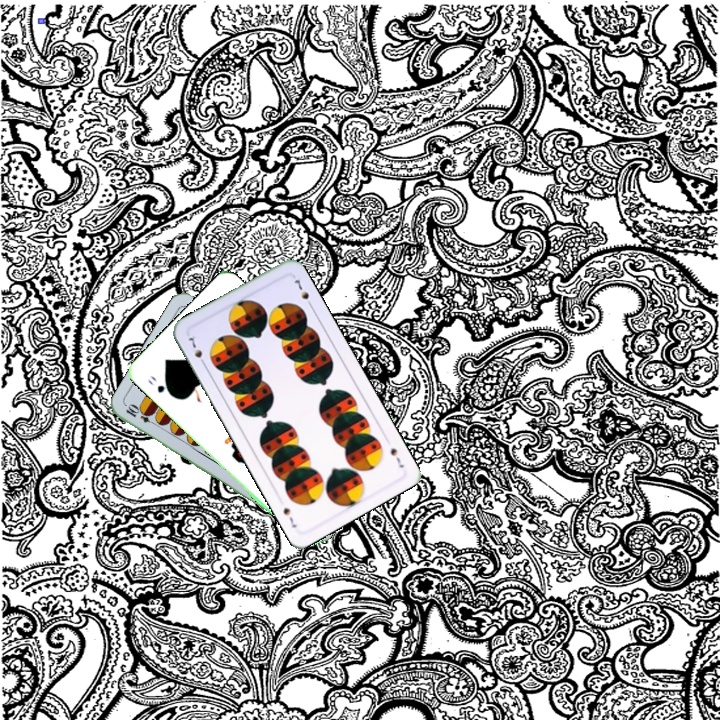E10: (122, 401, 160, 428)
GO: (143, 371, 176, 399)
S7: (184, 332, 208, 369), (386, 444, 407, 471)
